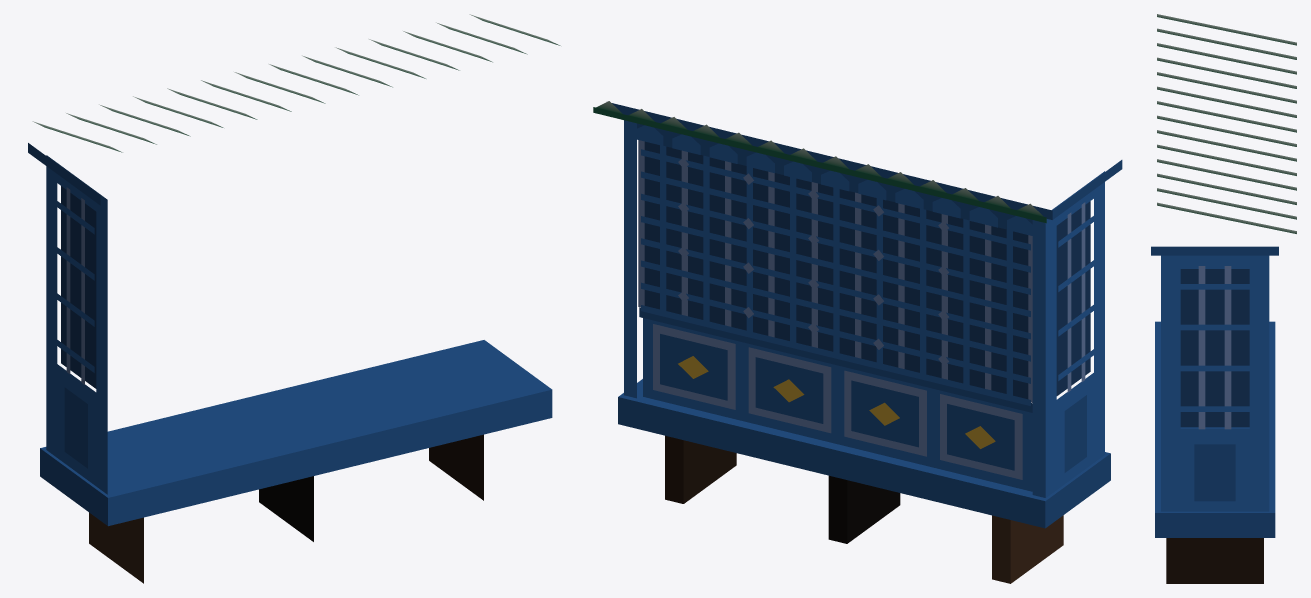
The model's file is balcony_lattice_blue.glb.
3 views of the same model, side by side, from view 1: azimuth 30°, elevation 25°; view 2: azimuth 150°, elevation 25°; view 3: azimuth 270°, elevation 25° (orthographic). The views are drawn at different scales.
Visible parts, largest first — view 1: balcony_lattice_blue; view 2: balcony_lattice_blue; view 3: balcony_lattice_blue.
Part boxes in pixels (x1,y1,x2,y2): balcony_lattice_blue: (28,14,560,583); balcony_lattice_blue: (593,101,1122,583); balcony_lattice_blue: (1151,14,1296,583).
Bounding box in the file's own units: 2.44 × 2.23 × 0.74.
